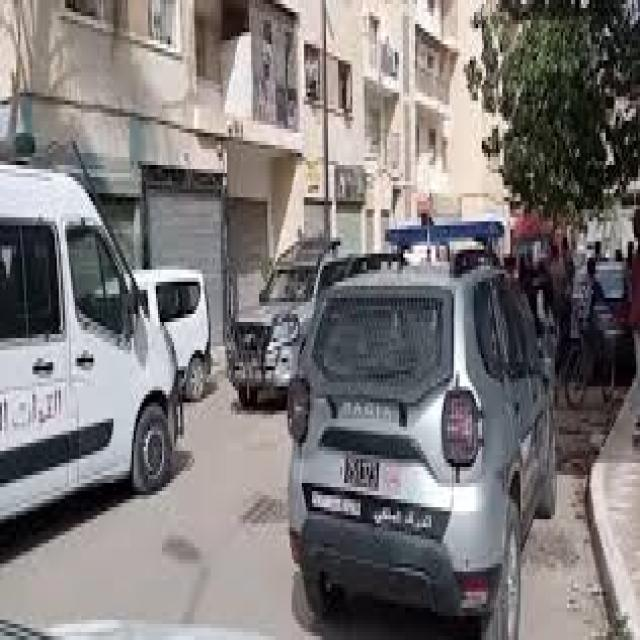gendarme car: (276, 213, 567, 640)
